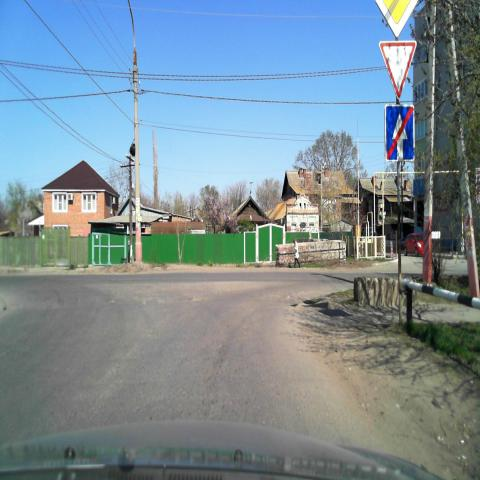5_6: (384, 103, 414, 161)
